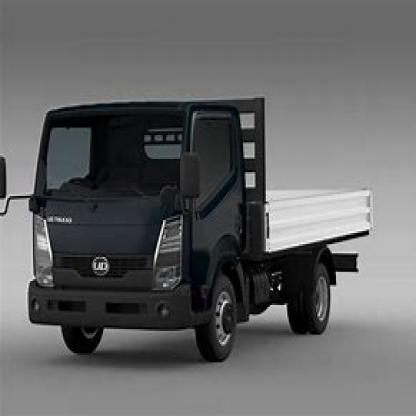dump_truck: (11, 85, 382, 362)
